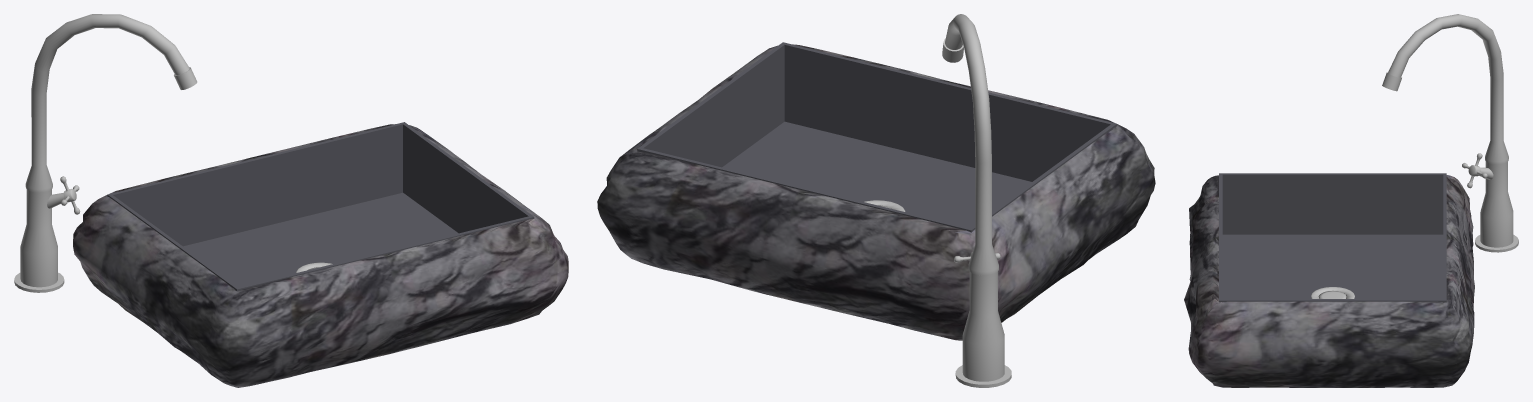
File: sh_scopia_stone_washbasin.glb
3 views of the same model, side by side, from view 1: azimuth 30°, elevation 25°; view 2: azimuth 150°, elevation 25°; view 3: azimuth 270°, elevation 25° (orthographic). The views are drawn at different scales.
Bounding box in the file's own units: 0.537 × 0.368 × 0.455.
Materials: 6 (1 with a texture image).
